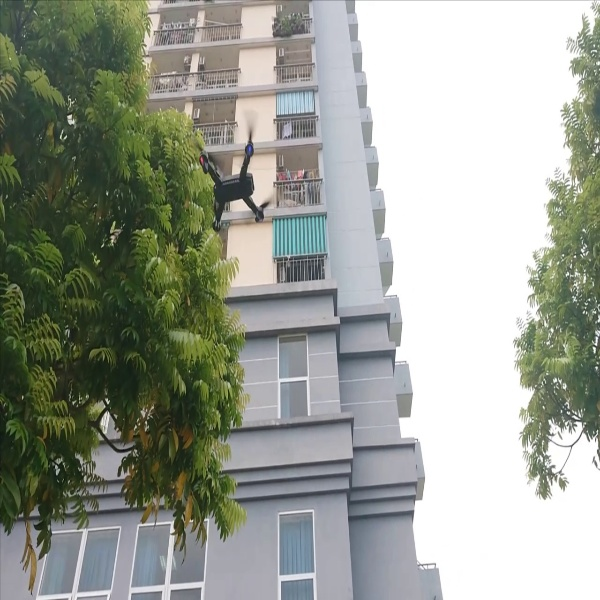drone: (192, 122, 284, 234)
